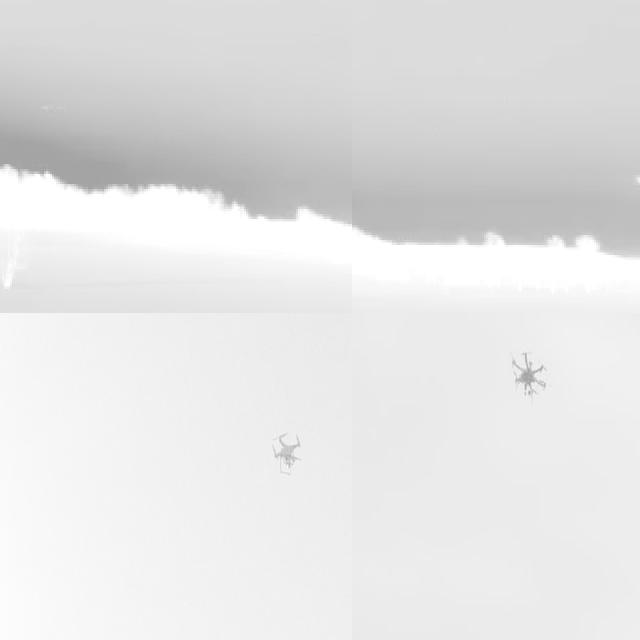0: (35, 99, 65, 127)
1: (625, 165, 640, 200)
drone: (507, 342, 549, 403), (271, 428, 301, 480)
